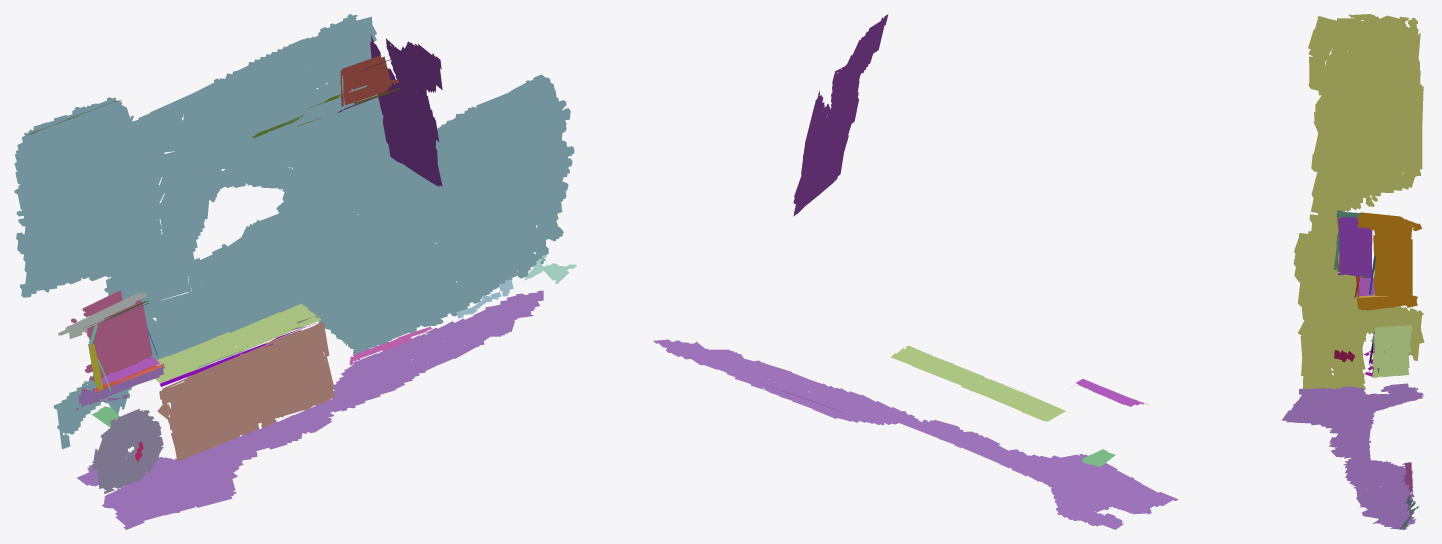
File: scene0316_00_simple.glb
The picture shows the model from 3 angles, left to right: view 1: azimuth 30°, elevation 25°; view 2: azimuth 150°, elevation 25°; view 3: azimuth 270°, elevation 25°; orthographic projection. The views are drawn at different scales.
Bounding box in the file's own units: 5.6 × 3.84 × 1.51.
